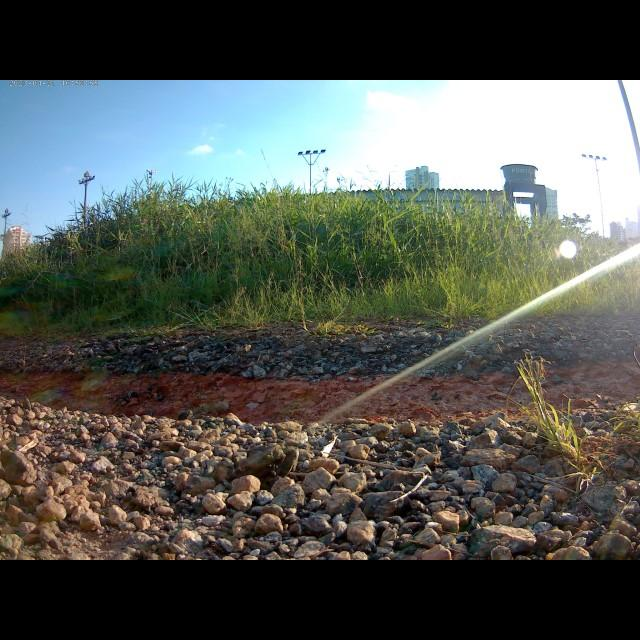ravina: (4, 354, 639, 424)
